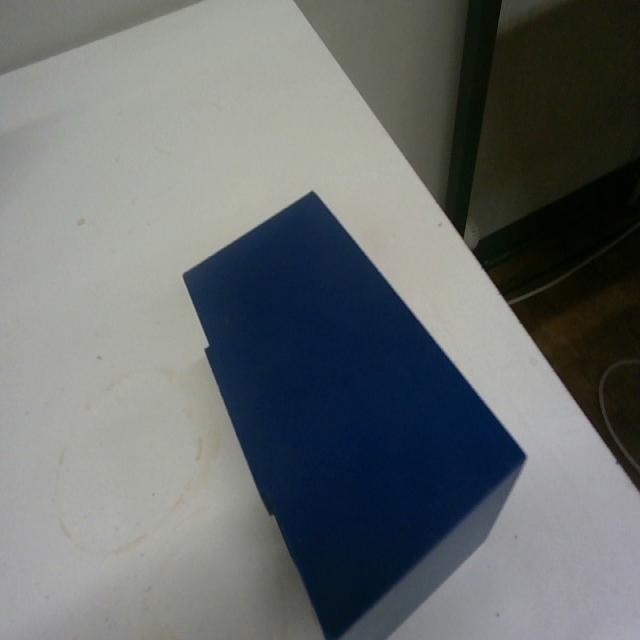Blue Cuboid: (180, 185, 528, 638)
